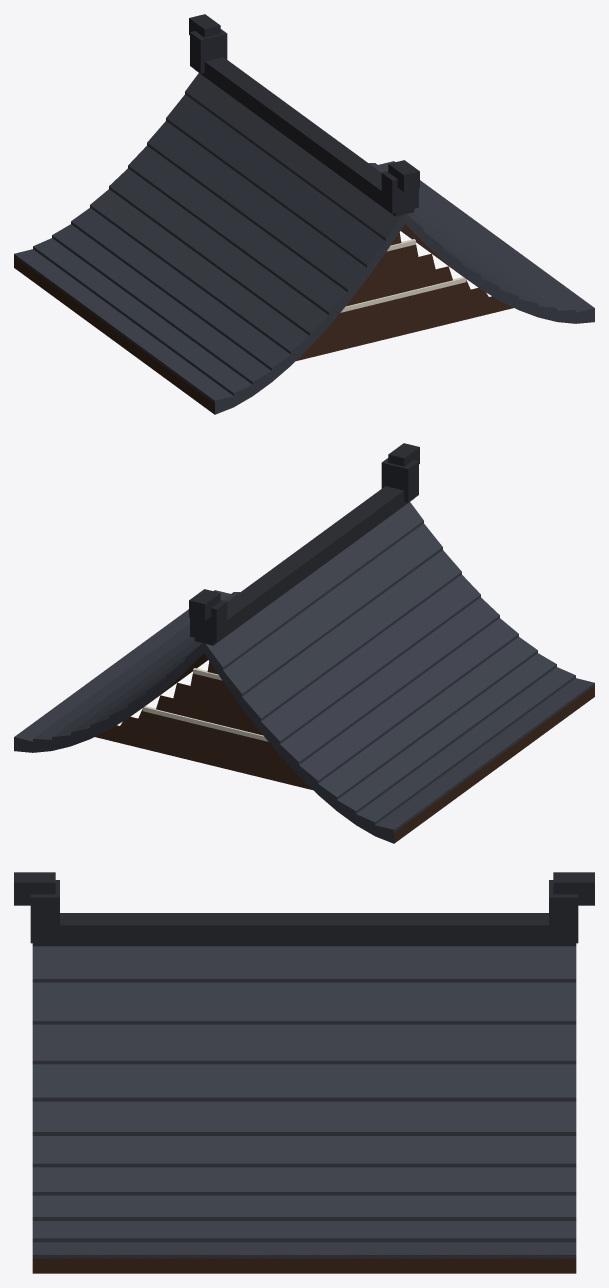
Rendered from jap-telhado-2x2.gltf.
3 views of the same model, one above another, from view 1: azimuth 30°, elevation 25°; view 2: azimuth 150°, elevation 25°; view 3: azimuth 270°, elevation 25° (orthographic). The views are drawn at different scales.
Visible parts, largest first — view 1: jap-telhado-2x2; view 2: jap-telhado-2x2; view 3: jap-telhado-2x2.
Boxes of the visible parts, x1,y1,x2,y2 form: jap-telhado-2x2: (14,14,594,414); jap-telhado-2x2: (14,443,594,843); jap-telhado-2x2: (14,872,594,1273).
Size of the model in its own units: 2.84 by 1.43 by 2.78.
